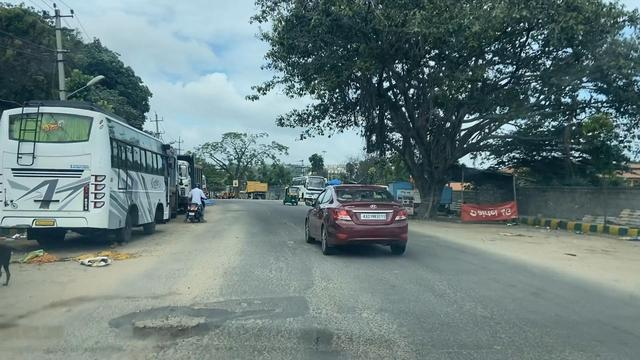HMV: (0, 103, 171, 257), (289, 171, 331, 209), (243, 179, 272, 205)
LMV: (309, 169, 423, 269), (185, 179, 215, 234), (279, 183, 302, 211)
RoadDamages: (97, 283, 284, 347), (261, 213, 314, 264)
